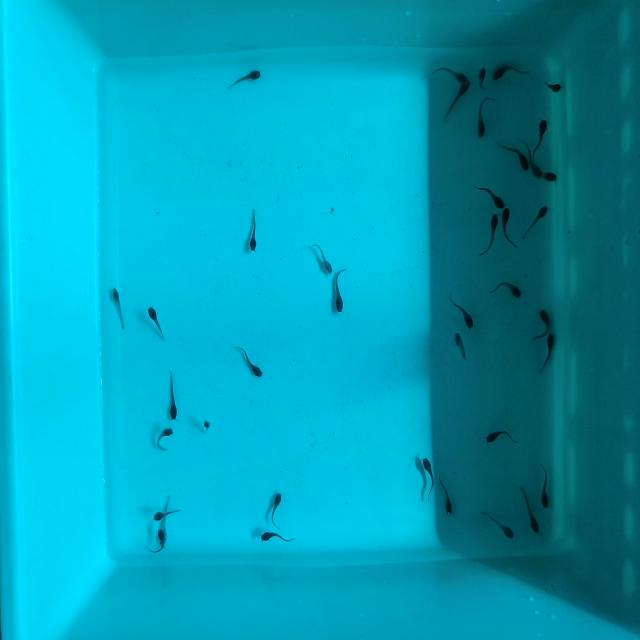lele: (440, 74, 474, 121), (230, 339, 265, 382), (516, 483, 542, 536), (519, 202, 550, 244), (480, 506, 516, 542), (498, 135, 532, 172), (446, 291, 477, 331), (143, 299, 169, 346), (519, 133, 544, 181), (307, 237, 336, 277), (473, 177, 507, 211), (530, 304, 555, 346), (472, 92, 493, 141), (480, 212, 500, 261), (225, 67, 263, 91), (488, 275, 523, 301), (109, 283, 128, 330), (151, 422, 177, 456), (430, 61, 467, 84), (491, 58, 528, 81), (145, 525, 170, 559), (538, 329, 556, 376), (498, 206, 516, 251), (422, 455, 438, 501), (439, 472, 455, 518), (532, 116, 549, 157), (268, 487, 284, 529), (452, 329, 470, 362), (334, 264, 345, 317), (168, 368, 178, 424), (248, 206, 260, 252), (539, 461, 550, 508), (161, 494, 172, 541), (485, 428, 518, 443), (153, 507, 182, 523), (259, 531, 294, 544), (475, 64, 489, 93), (542, 80, 564, 94), (540, 168, 558, 183), (203, 417, 212, 438)
